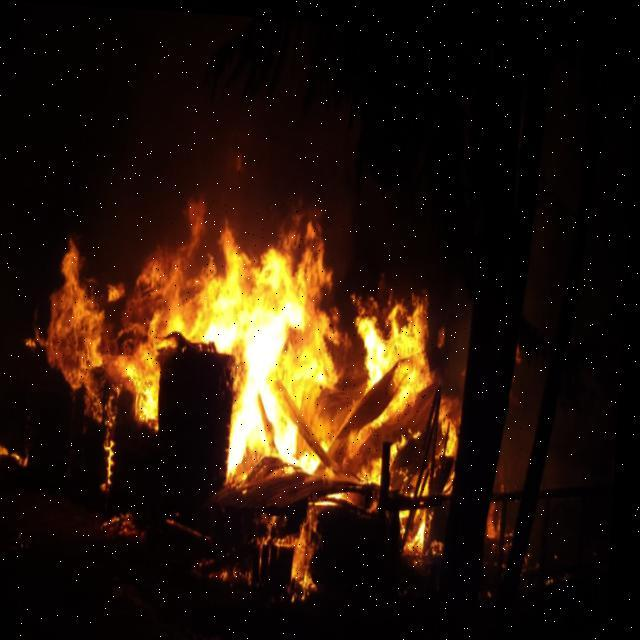Fire: (21, 184, 475, 571)
